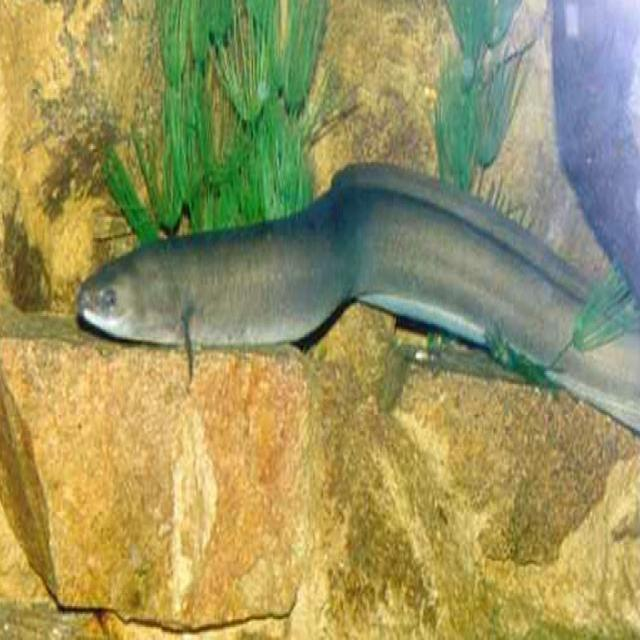Freshwater-Eel: (49, 92, 640, 512)
